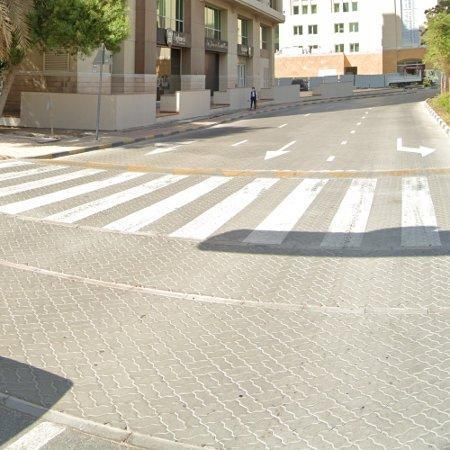crosswalk: (0, 157, 444, 248)
